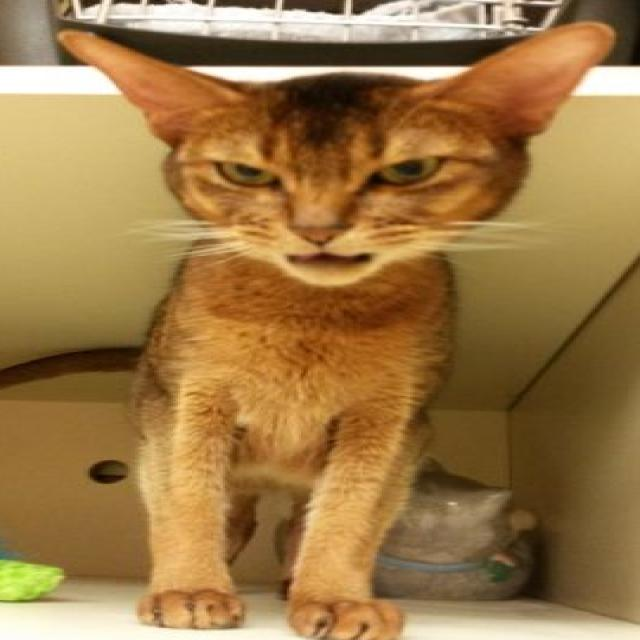Abyssinian: (52, 14, 637, 640)
